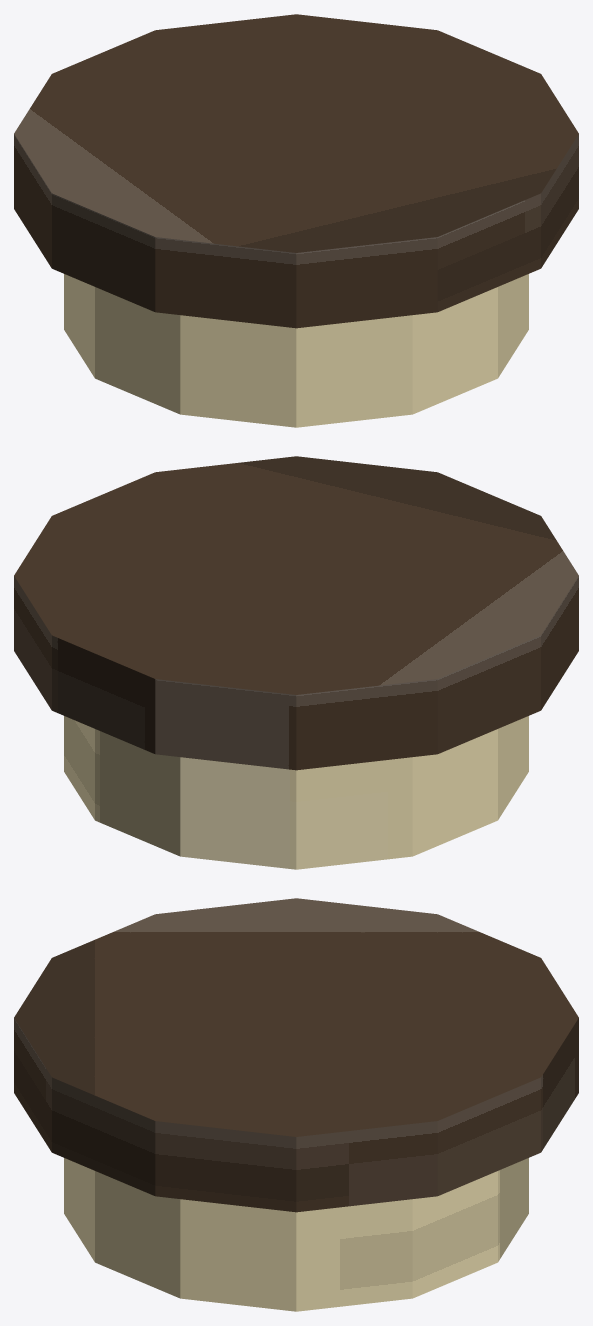
The model's file is ceiling_light_warm.glb.
3 renders of one model, top to bottom at view 1: azimuth 30°, elevation 25°; view 2: azimuth 150°, elevation 25°; view 3: azimuth 270°, elevation 25°, orthographic.
Visible parts, largest first — view 1: CeilingPlate, LightDiffuser; view 2: CeilingPlate, LightDiffuser; view 3: CeilingPlate, LightDiffuser.
Boxes of the visible parts, x1=… form: CeilingPlate: x1=14, y1=14, x2=578, y2=328; LightDiffuser: x1=64, y1=274, x2=528, y2=427; CeilingPlate: x1=14, y1=456, x2=578, y2=770; LightDiffuser: x1=64, y1=716, x2=528, y2=869; CeilingPlate: x1=14, y1=898, x2=578, y2=1212; LightDiffuser: x1=64, y1=1158, x2=528, y2=1311.
Bounding box in the file's own units: 0.68 × 0.26 × 0.68.
1 material, 1 textured.
